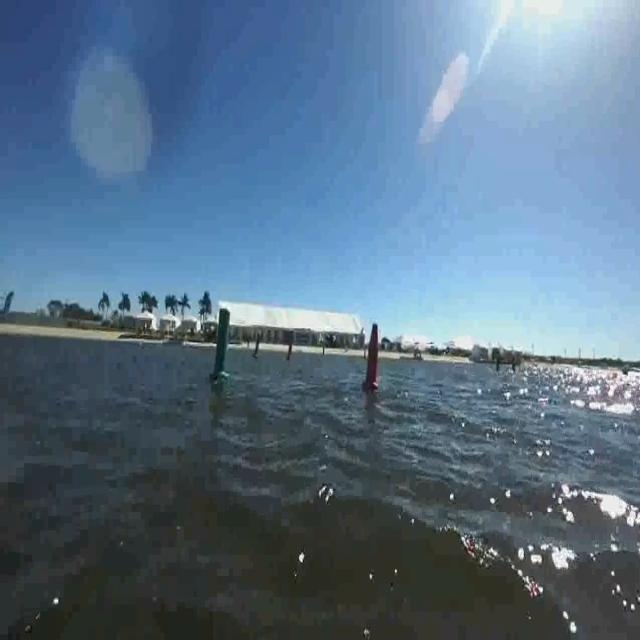green-column-buoy: (209, 306, 233, 382), (252, 334, 262, 360)
red-column-buoy: (362, 320, 382, 392), (285, 342, 294, 362)
